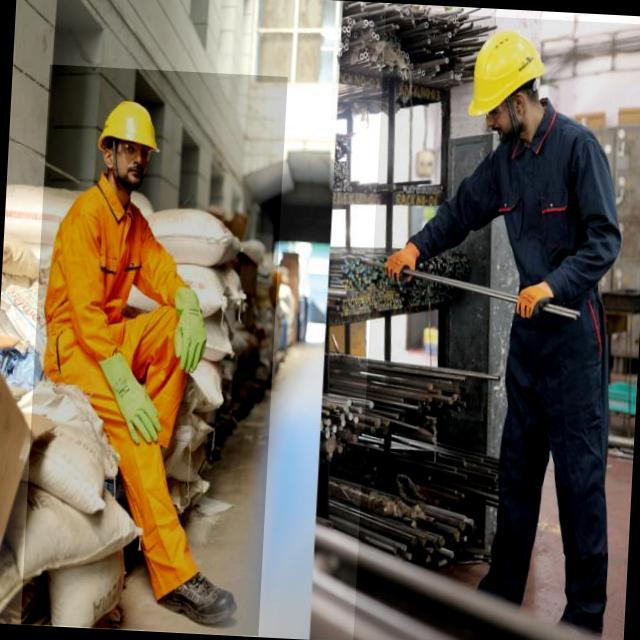Gloves: (110, 342, 165, 445), (166, 279, 218, 375), (382, 234, 437, 304), (509, 274, 560, 336)
Helmet: (458, 19, 555, 109), (91, 94, 171, 163)
Person: (381, 13, 627, 640), (34, 60, 259, 640)
Safety Boot: (145, 553, 247, 637)
no-vest: (47, 193, 163, 387), (495, 127, 603, 282)
